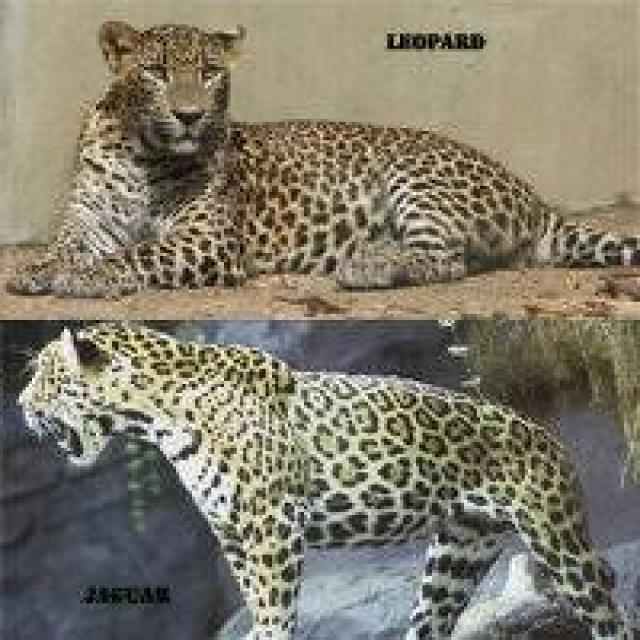Jaguar: (26, 323, 614, 600)
Leopard: (25, 12, 538, 323)
